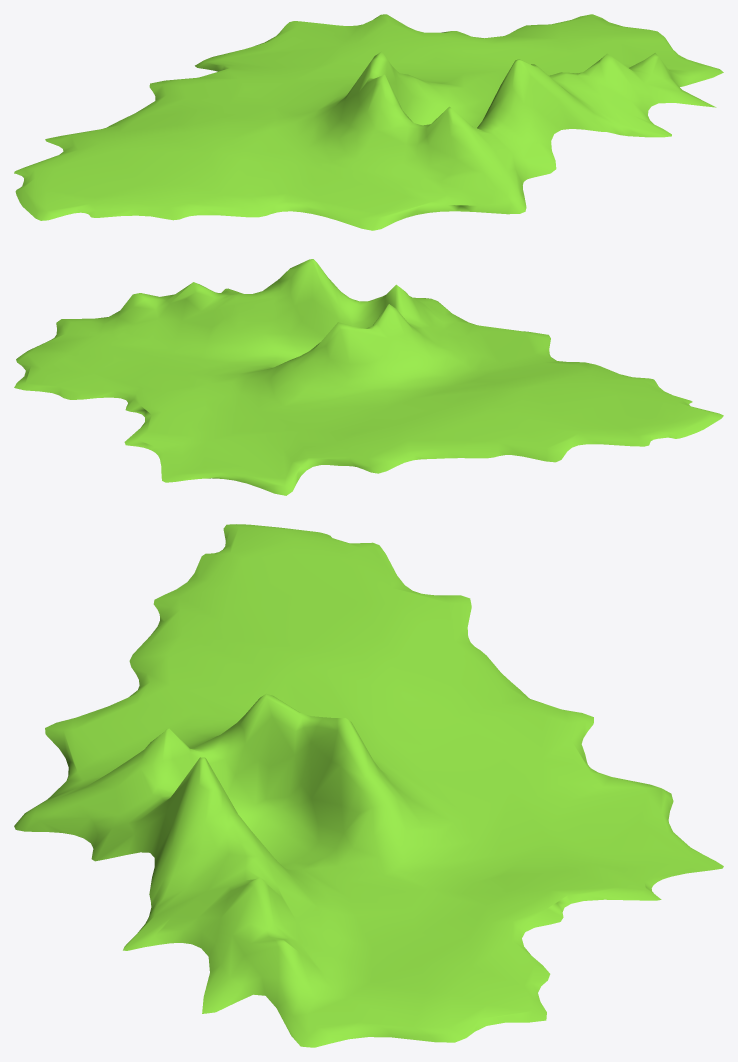
Rendered from TestIsland0.fbx.
3 views of the same model, one above another, from view 1: azimuth 30°, elevation 25°; view 2: azimuth 150°, elevation 25°; view 3: azimuth 270°, elevation 25° (orthographic). The views are drawn at different scales.
Parts seen in each view (by area): view 1: Island4_Rework; view 2: Island4_Rework; view 3: Island4_Rework.
Boxes of the visible parts, left/top/right/bottom form: Island4_Rework: left=14, top=14, right=723, bottom=230; Island4_Rework: left=14, top=259, right=723, bottom=495; Island4_Rework: left=14, top=524, right=723, bottom=1047.
Bounding box in the file's own units: 146 × 19.41 × 94.33.
